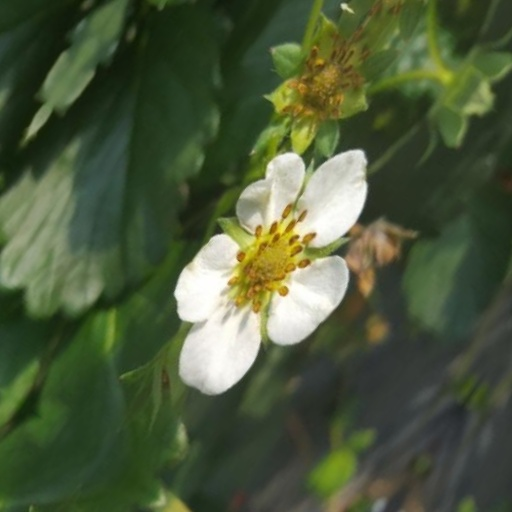Blossom Blight: (234, 186, 310, 313), (175, 0, 249, 128)
